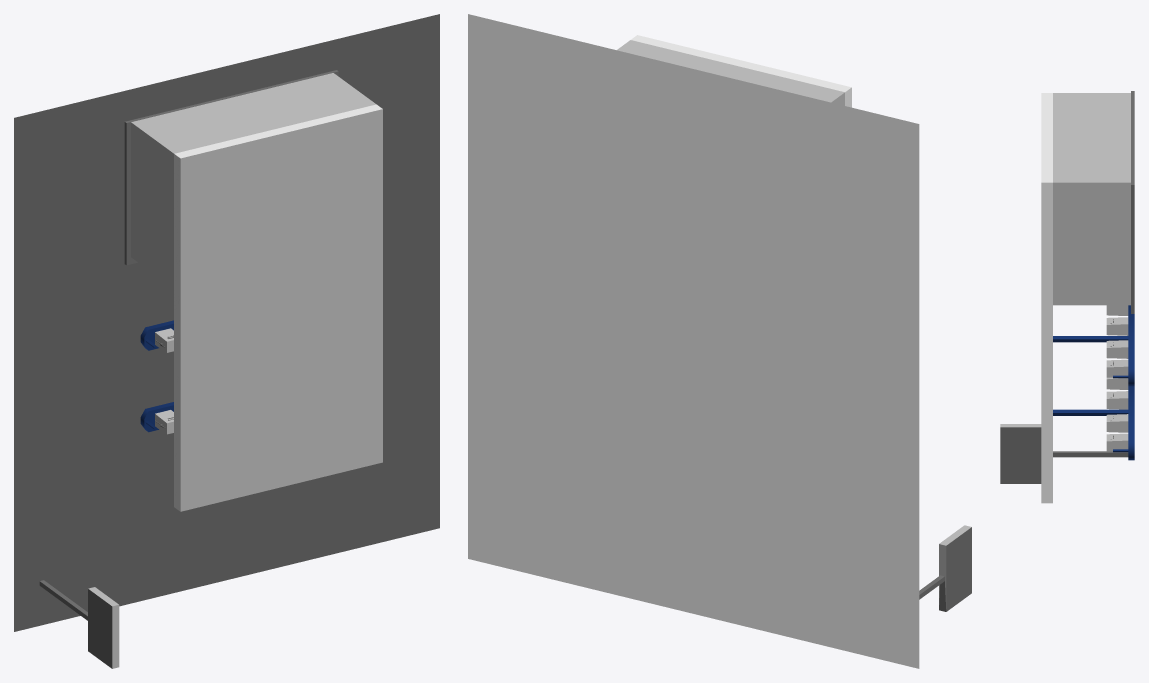
Rendered from minimart.obj.
3 renders of one model, left to right at view 1: azimuth 30°, elevation 25°; view 2: azimuth 150°, elevation 25°; view 3: azimuth 270°, elevation 25°, orthographic. The views are drawn at different scales.
Parts seen in each view (by area): view 1: ground, roof_1, mart, fsign1_1, curb, island, pumps; view 2: ground, mart, fsign1_1, roof_1; view 3: mart, roof_1, fsign1_1, pumps, island, poles, curb.
Part boxes in pixels (x1,y1,x2,y2): ground: [14, 14, 439, 631]; roof_1: [174, 104, 382, 511]; mart: [131, 73, 376, 288]; fsign1_1: [39, 580, 119, 668]; curb: [124, 70, 338, 265]; island: [140, 320, 173, 432]; pumps: [155, 328, 173, 434]; ground: [468, 14, 919, 668]; mart: [617, 40, 844, 105]; fsign1_1: [919, 525, 971, 611]; roof_1: [631, 35, 851, 107]; mart: [1053, 93, 1130, 305]; roof_1: [1041, 93, 1052, 503]; fsign1_1: [1000, 424, 1128, 483]; pumps: [1106, 305, 1128, 451]; island: [1128, 305, 1134, 460]; poles: [1053, 336, 1128, 415]; curb: [1131, 91, 1134, 313].
Size of the model in its own units: 26 by 30 by 7.82.
